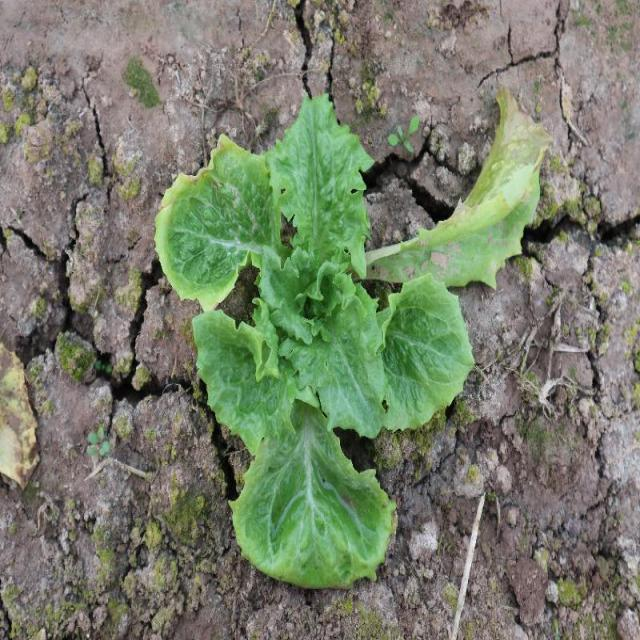crop: (155, 84, 553, 593)
